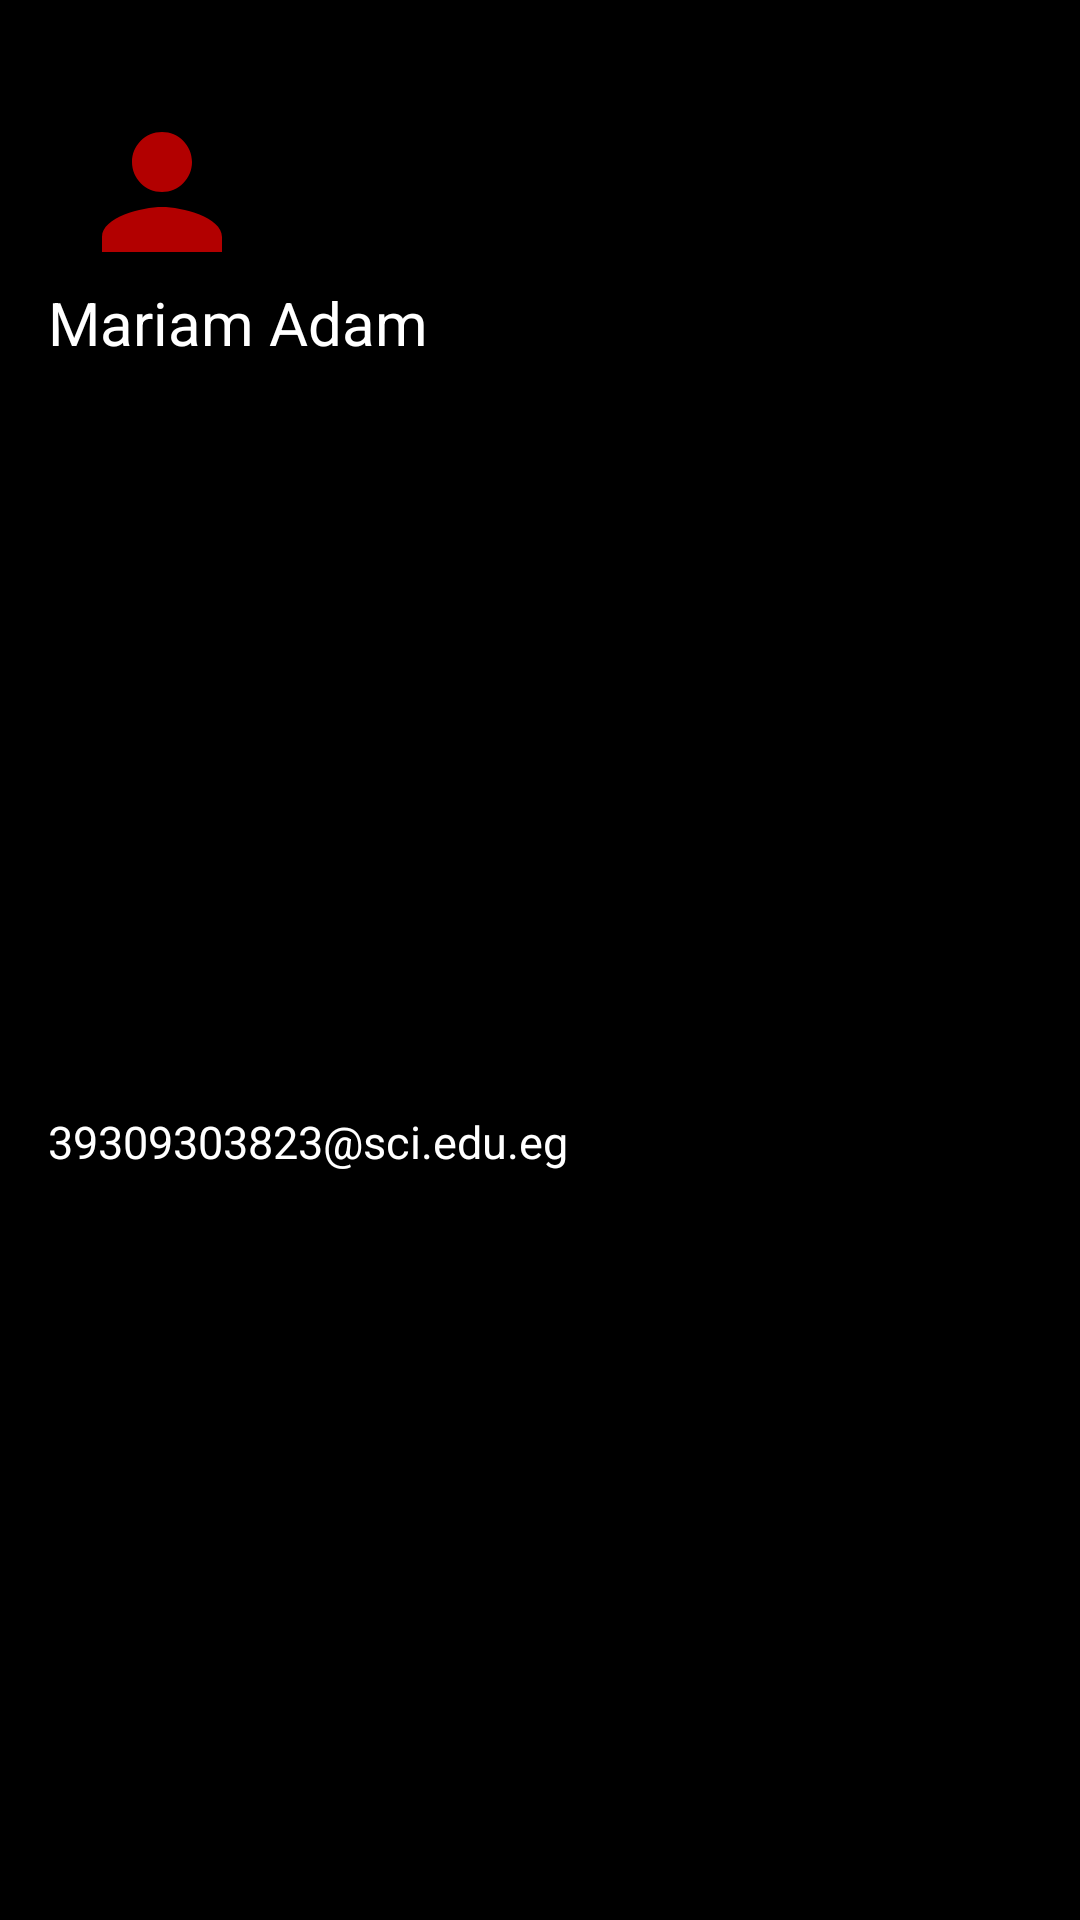

Icon click points for this 1080px x 1920px phone screenshot, format (x=x, y=y):
person: (x=162, y=192)
